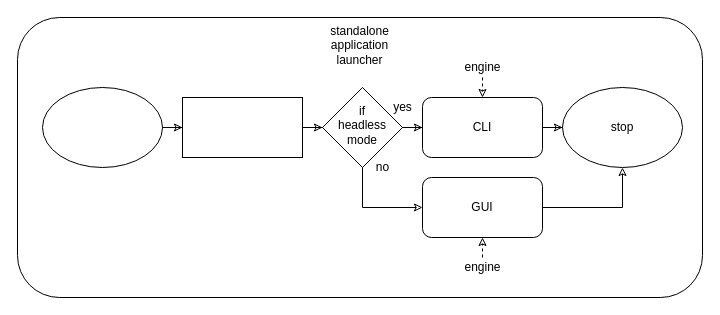
The diagram is 720 pixels wide and 315 high, and some of its shapes have lost their labels. Here are the shapes that lost their labels. From the top down, the centre of each, then its label:
At [102,127]: "start".
At [242,127]: "start engine".
